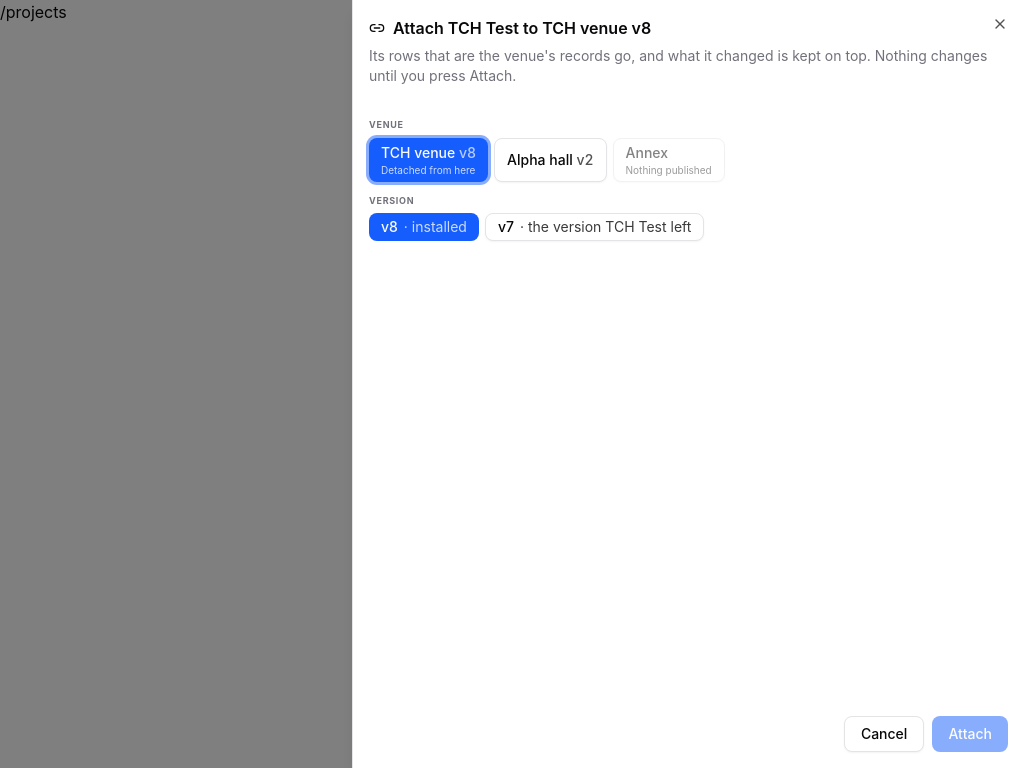
Test: the matching line › says why, for an origin in another venue
Click the radio button labelled "Alpha hall v2": (550, 160) [494,138,607,182]
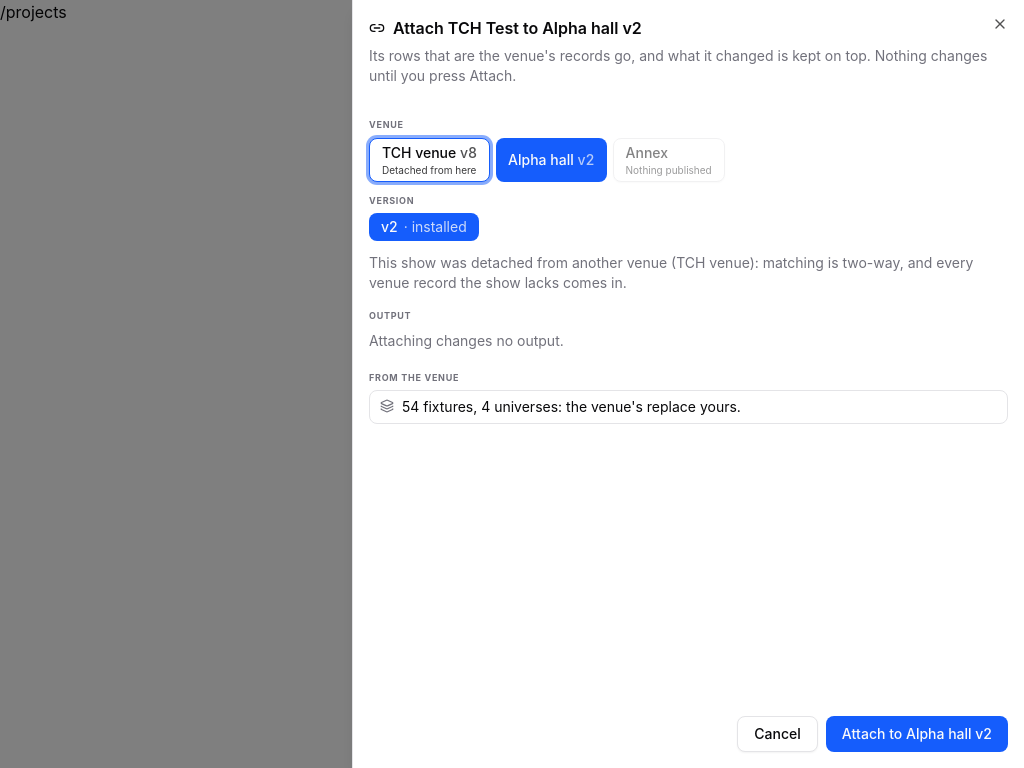
Expected: the text "This show was detached from another venue (TCH venue): matching is two-way, and every venue record the show lacks comes in." is shown, [369,254,973,291]
